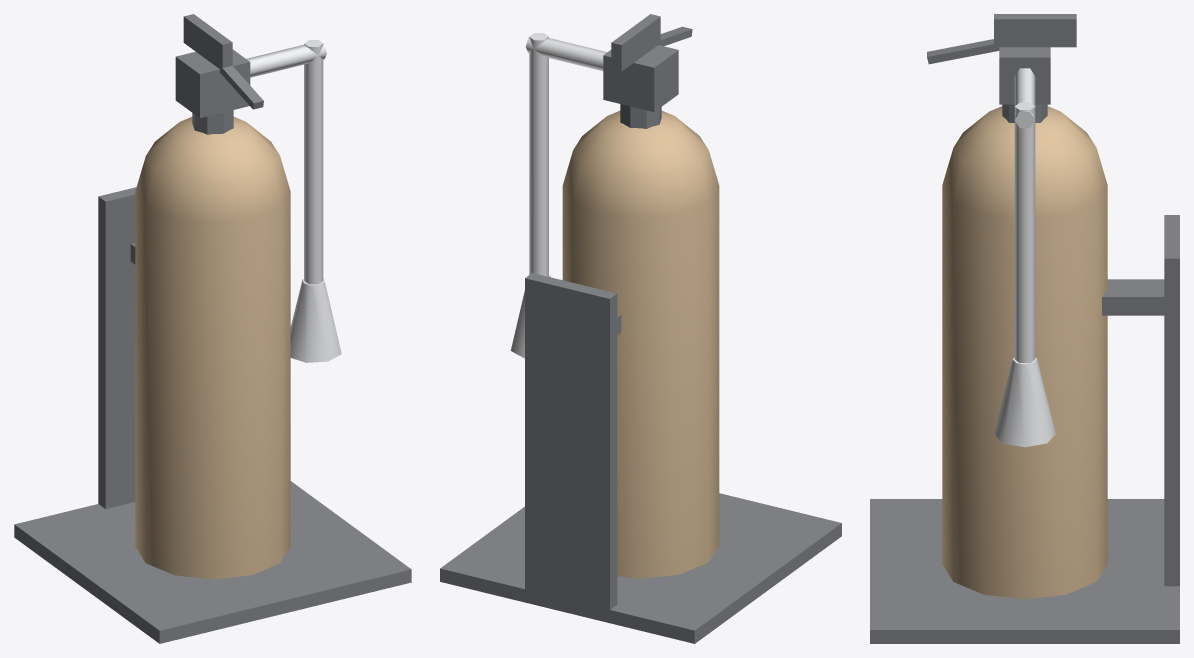
File: fire_extinguisher.glb
3 renders of one model, left to right at view 1: azimuth 30°, elevation 25°; view 2: azimuth 150°, elevation 25°; view 3: azimuth 270°, elevation 25°, orthographic. The views are drawn at different scales.
Visible parts, largest first — view 1: fire_extinguisher; view 2: fire_extinguisher; view 3: fire_extinguisher.
Part boxes in pixels (x1=…): fire_extinguisher: x1=14, y1=14, x2=411, y2=643; fire_extinguisher: x1=440, y1=14, x2=841, y2=643; fire_extinguisher: x1=870, y1=14, x2=1179, y2=643.
Bounding box in the file's own units: 0.3 × 0.6 × 0.3.
